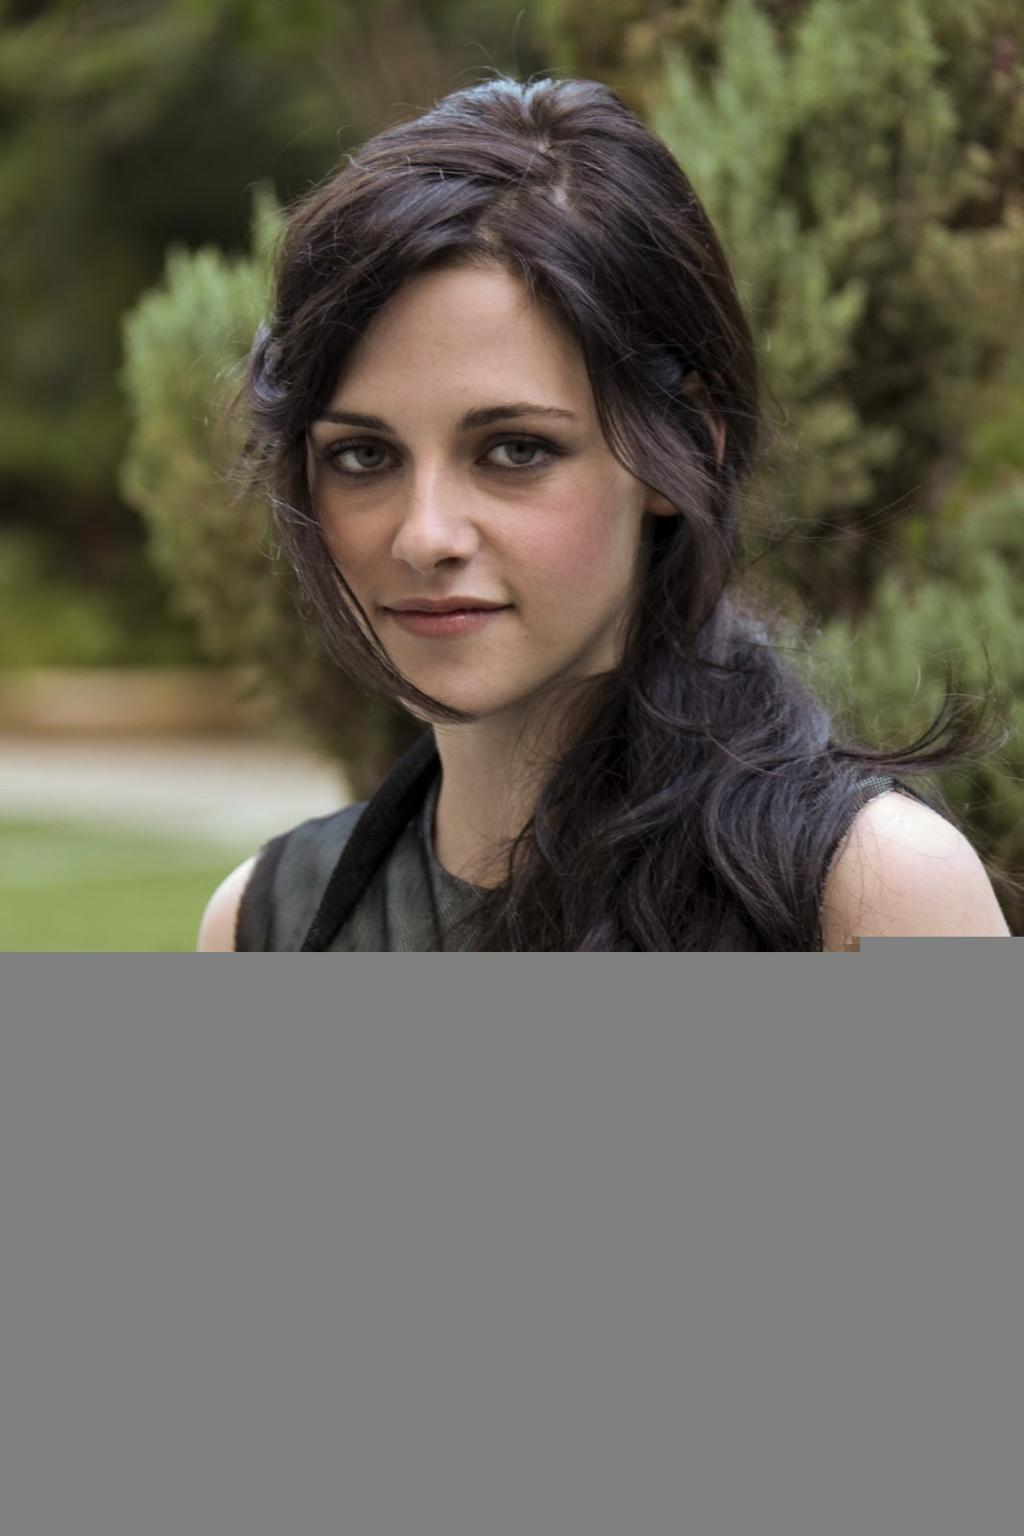face: (307, 259, 649, 712)
